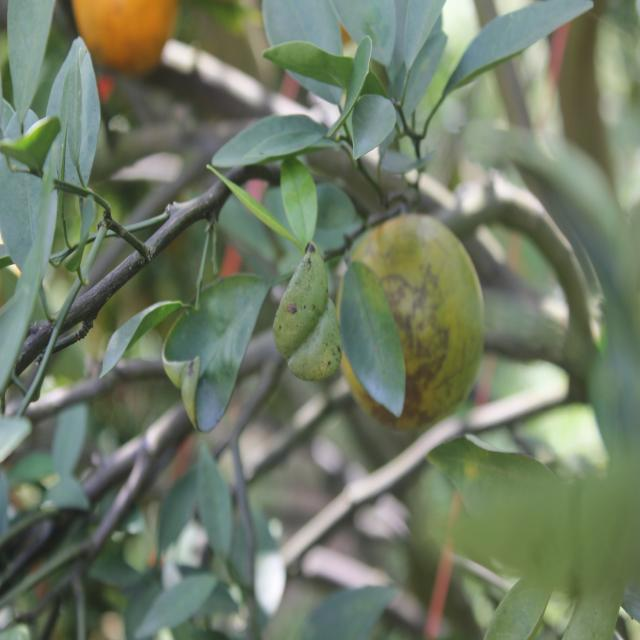blackspot: (278, 272, 340, 372)
